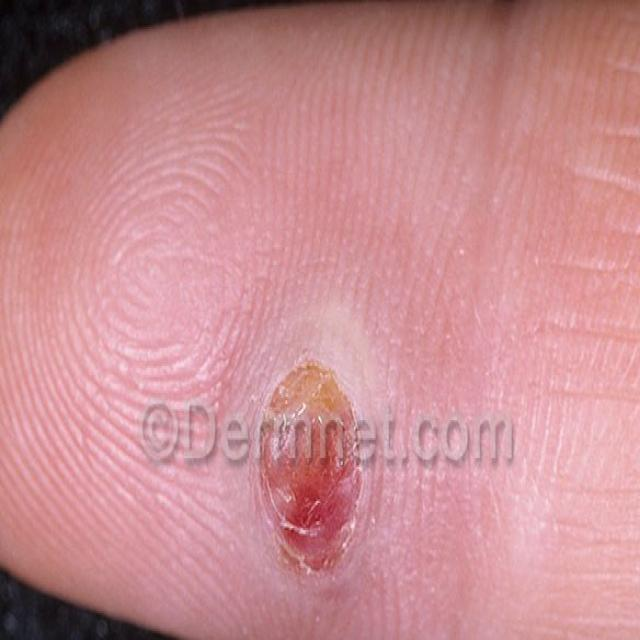Vascular Tumors: (247, 349, 363, 574)
